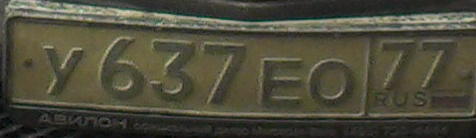character: (93, 34, 147, 105), (147, 35, 198, 104), (200, 37, 248, 106), (256, 56, 307, 109), (308, 54, 357, 109), (41, 43, 86, 100), (377, 36, 418, 95), (417, 36, 457, 94)
